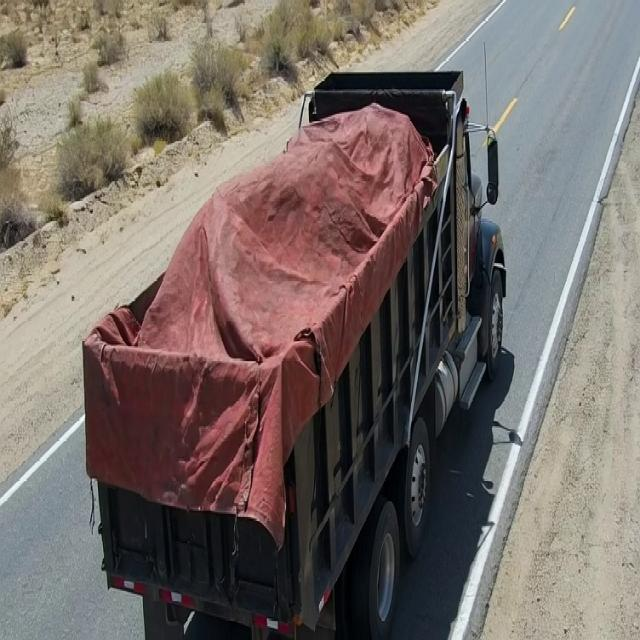trailer: (79, 79, 472, 378)
truck: (67, 44, 519, 625)
